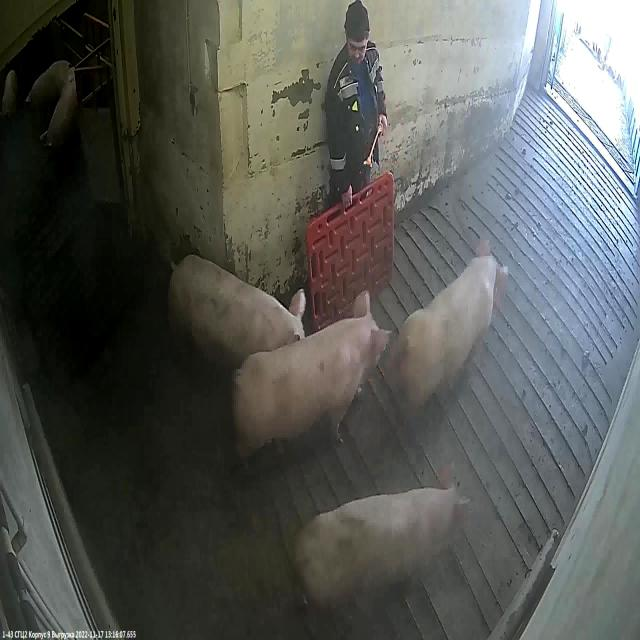pig: (232, 290, 393, 469), (375, 236, 505, 433), (306, 461, 456, 614), (170, 255, 306, 380), (40, 69, 78, 154), (26, 61, 68, 107), (2, 70, 16, 117)
